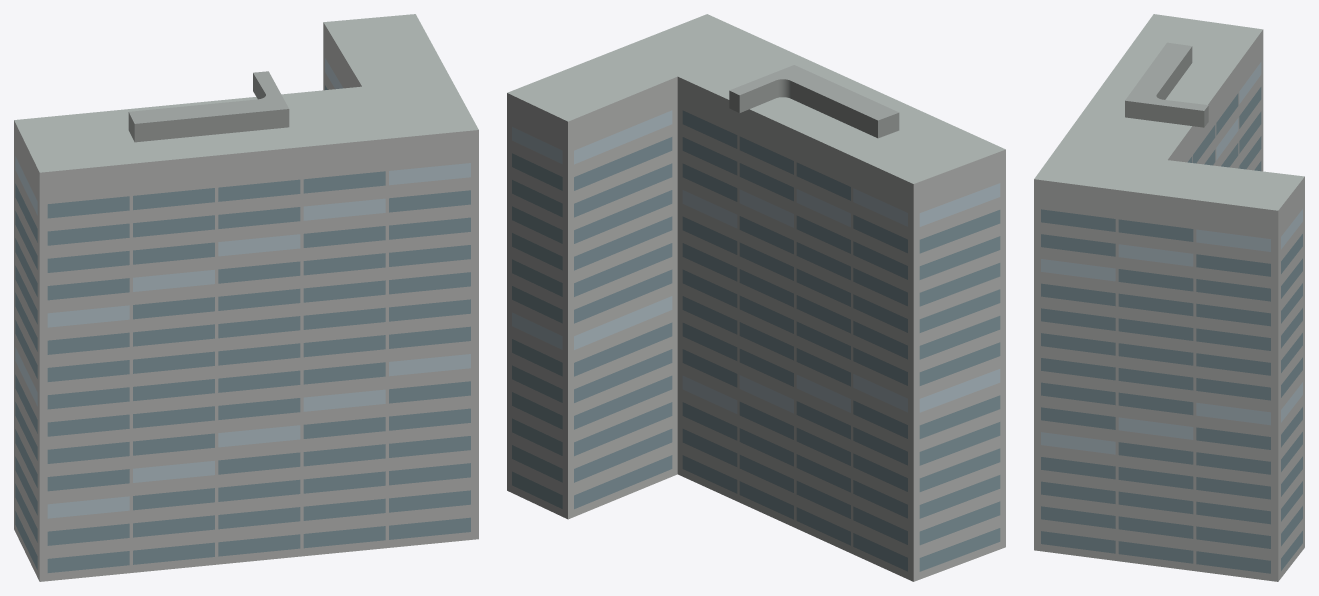
File: fallback-olympic-park-foreon-205.glb
The picture shows the model from 3 angles, left to right: view 1: azimuth 30°, elevation 25°; view 2: azimuth 150°, elevation 25°; view 3: azimuth 270°, elevation 25°; orthographic projection. The views are drawn at different scales.
Parts seen in each view (by area): view 1: fallback-olympic-park-foreon-205; view 2: fallback-olympic-park-foreon-205; view 3: fallback-olympic-park-foreon-205.
Boxes of the visible parts, x1,y1,x2,y2 form: fallback-olympic-park-foreon-205: [14, 14, 478, 581]; fallback-olympic-park-foreon-205: [507, 14, 1005, 581]; fallback-olympic-park-foreon-205: [1034, 14, 1304, 581].
Size of the model in its own units: 52.02 by 47.81 by 30.26.
